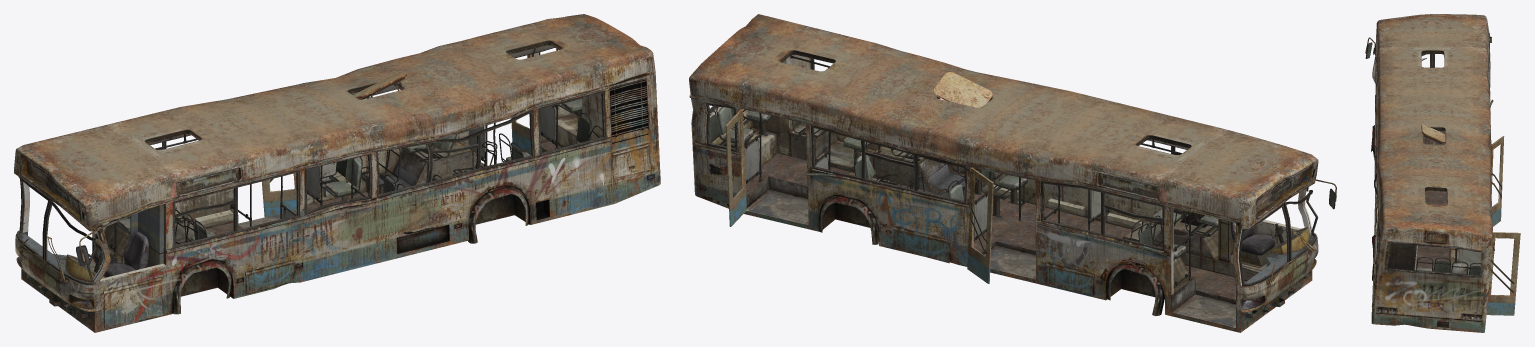
Rendered from destroyed_bus.glb.
The picture shows the model from 3 angles, left to right: view 1: azimuth 30°, elevation 25°; view 2: azimuth 150°, elevation 25°; view 3: azimuth 270°, elevation 25°; orthographic projection. The views are drawn at different scales.
Parts seen in each view (by area): view 1: mesh_0_veh\bus_01_0, mesh_1_veh\bus_02_0, mesh_3_veh\bus_04_0, mesh_4_veh\bus_05_0, mesh_2_veh\bus_03_0, mesh_5_metal\metal_tile_0; view 2: mesh_0_veh\bus_01_0, mesh_1_veh\bus_02_0, mesh_2_veh\bus_03_0, mesh_3_veh\bus_04_0, mesh_4_veh\bus_05_0, mesh_5_metal\metal_tile_0; view 3: mesh_0_veh\bus_01_0, mesh_4_veh\bus_05_0, mesh_2_veh\bus_03_0, mesh_1_veh\bus_02_0, mesh_5_metal\metal_tile_0, mesh_3_veh\bus_04_0.
Part boxes in pixels (x1=…): mesh_0_veh\bus_01_0: x1=14, y1=14, x2=660, y2=332; mesh_1_veh\bus_02_0: x1=76, y1=75, x2=659, y2=332; mesh_3_veh\bus_04_0: x1=15, y1=45, x2=606, y2=285; mesh_4_veh\bus_05_0: x1=65, y1=49, x2=602, y2=282; mesh_2_veh\bus_03_0: x1=22, y1=40, x2=606, y2=284; mesh_5_metal\metal_tile_0: x1=103, y1=141, x2=560, y2=277; mesh_0_veh\bus_01_0: x1=689, y1=14, x2=1318, y2=332; mesh_1_veh\bus_02_0: x1=689, y1=95, x2=1336, y2=332; mesh_2_veh\bus_03_0: x1=705, y1=50, x2=1312, y2=327; mesh_3_veh\bus_04_0: x1=705, y1=58, x2=1318, y2=293; mesh_4_veh\bus_05_0: x1=709, y1=55, x2=1309, y2=287; mesh_5_metal\metal_tile_0: x1=746, y1=153, x2=1246, y2=299; mesh_0_veh\bus_01_0: x1=1371, y1=14, x2=1492, y2=332; mesh_4_veh\bus_05_0: x1=1415, y1=136, x2=1520, y2=315; mesh_2_veh\bus_03_0: x1=1372, y1=50, x2=1490, y2=270; mesh_1_veh\bus_02_0: x1=1365, y1=33, x2=1494, y2=320; mesh_5_metal\metal_tile_0: x1=1415, y1=131, x2=1448, y2=271; mesh_3_veh\bus_04_0: x1=1374, y1=54, x2=1482, y2=275.
Bounding box in the file's own units: 14.71 × 3.8 × 4.37.
Materials: 7 (7 with a texture image).
